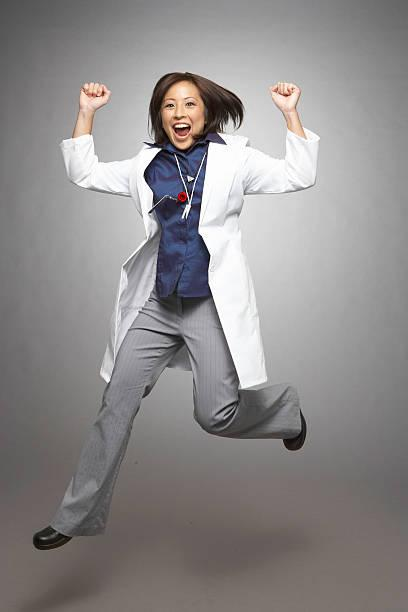Lab_coat: (67, 106, 341, 413)
